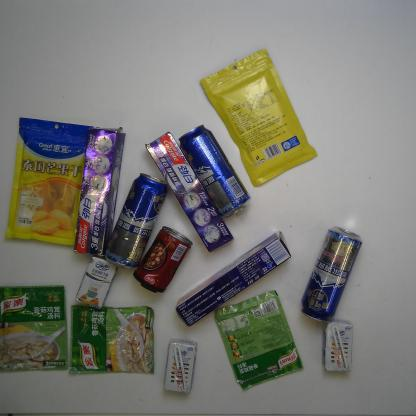Alcohol: (178, 123, 252, 219), (102, 172, 170, 271), (299, 224, 364, 324)
Canned Food: (131, 225, 194, 296)
Dried Fruit: (199, 46, 319, 190), (3, 116, 94, 247)
Milk: (74, 254, 121, 310), (162, 337, 200, 394), (321, 317, 357, 373)
Personal Hygiene: (174, 230, 294, 328), (145, 129, 236, 254), (72, 124, 127, 257)
Seasoner: (212, 288, 306, 391), (66, 303, 156, 377), (1, 284, 70, 374)
